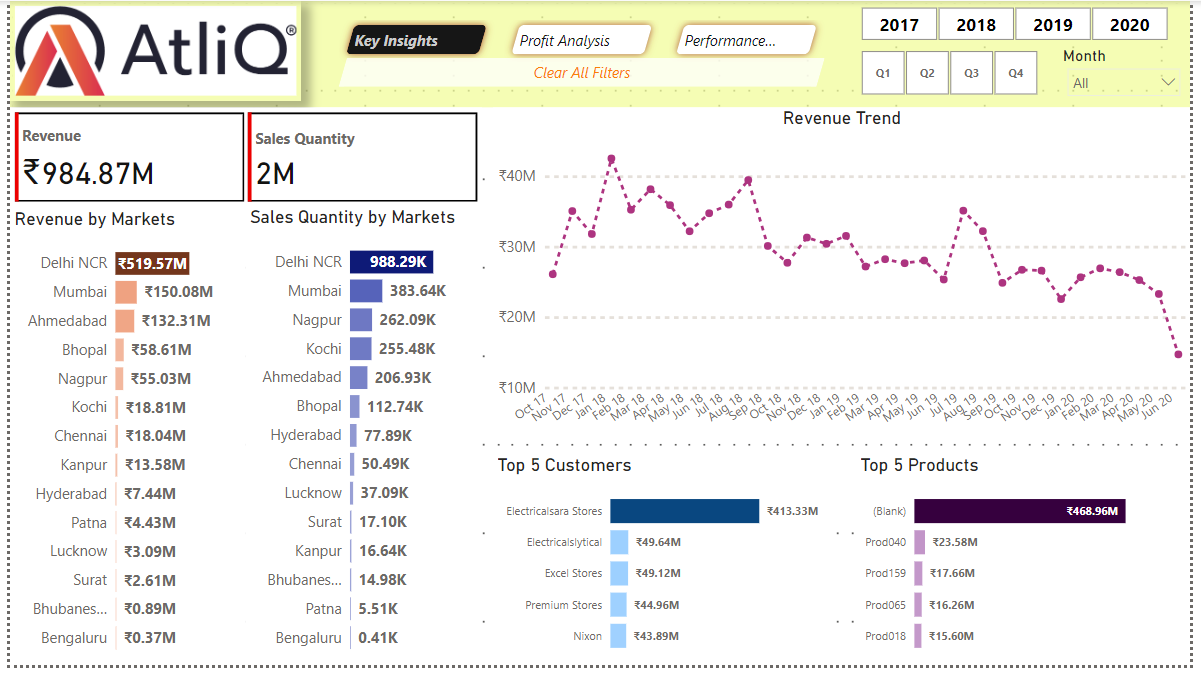

This screenshot's page, from the dashboard's own definition file:
{"tool":"powerbi","page":{"name":"Key Insights","canvas":[1280,720],"ordinal":0},"visuals":[{"type":"shape","box":[0,0,1280,115.6],"z":0},{"type":"image","title":"Company_Logo","box":[0,0,315.7,108.6],"z":1000},{"type":"pageNavigator","box":[356.2,17.5,528,48],"z":2000,"group":"g2"},{"type":"lineChart","title":"Revenue Trend","fields":{"Y":["Base_Measures.Revenue"],"Category":["CalenderTable.Mmm-YY"]},"box":[523.4,115.5,756.6,364.5],"z":2000},{"type":"barChart","title":"Revenue by Markets","fields":{"Y":["Base_Measures.Revenue"],"Category":["sales markets.markets_name"]},"box":[0,223.7,255.5,496.3],"z":2000,"group":"g3"},{"type":"barChart","title":"Sales Quantity by Markets","fields":{"Category":["sales markets.markets_name"],"Y":["Base_Measures.Sales Quantity"]},"box":[256,222.4,254.4,497.6],"z":3000,"group":"g3"},{"type":"barChart","title":"Top 5 Customers","fields":{"Y":["Base_Measures.Revenue"],"Category":["sales customers.custmer_name"]},"box":[523.9,491.4,359.6,229.4],"z":3000},{"type":"barChart","title":"Top 5 Products","fields":{"Y":["Base_Measures.Revenue"],"Category":["sales products.product_code"]},"box":[917.7,491.4,361.2,229.4],"z":4000},{"type":"group","id":"g1","title":"Date Slicers-1","box":[898.8,0,381.3,108.9],"z":5000},{"type":"cardVisual","fields":{"Data":["Base_Measures.Revenue","Base_Measures.Sales Quantity"]},"box":[0,115.2,512,107.2],"z":6000},{"type":"slicer","fields":{"Values":["CalenderTable.Year"]},"box":[898.8,0,381.2,48.8],"z":7000,"group":"g1"},{"type":"group","id":"g2","title":"Navigations","box":[355.9,17.5,528.3,74.4],"z":7000},{"type":"slicer","fields":{"Values":["CalenderTable.Quarter"]},"box":[898.8,47.6,240,61.2],"z":8000,"group":"g1"},{"type":"group","id":"g3","title":"Group 1","box":[0,222.4,510.4,497.6],"z":8000},{"type":"actionButton","box":[355.9,60.6,527.5,31.2],"z":12000,"group":"g2"},{"type":"slicer","title":"Month","fields":{"Values":["CalenderTable.Date Hierarchy.Month"]},"box":[1138.4,48.2,141.7,60],"z":12002,"group":"g1"}]}

Visuals, with their boxes in screenshot pixels (x1, y1, x2, y2), scaled from the page's 1280x720 canvas onto the 1201x676 screenshot:
shape: box(0, 0, 1200, 109)
"Company_Logo" image: box(0, 0, 296, 102)
pageNavigator: box(334, 16, 830, 61)
"Revenue Trend" lineChart: box(491, 108, 1200, 451)
"Revenue by Markets" barChart: box(0, 210, 240, 675)
"Sales Quantity by Markets" barChart: box(240, 209, 479, 675)
"Top 5 Customers" barChart: box(492, 461, 829, 675)
"Top 5 Products" barChart: box(861, 461, 1200, 675)
"Date Slicers-1" group: box(843, 0, 1200, 102)
cardVisual - Base_Measures.Revenue x Base_Measures.Sales Quantity: box(0, 108, 480, 209)
slicer - CalenderTable.Year: box(843, 0, 1200, 46)
"Navigations" group: box(334, 16, 830, 86)
slicer - CalenderTable.Quarter: box(843, 45, 1069, 102)
"Group 1" group: box(0, 209, 479, 675)
actionButton: box(334, 57, 829, 86)
"Month" slicer: box(1068, 45, 1200, 102)
